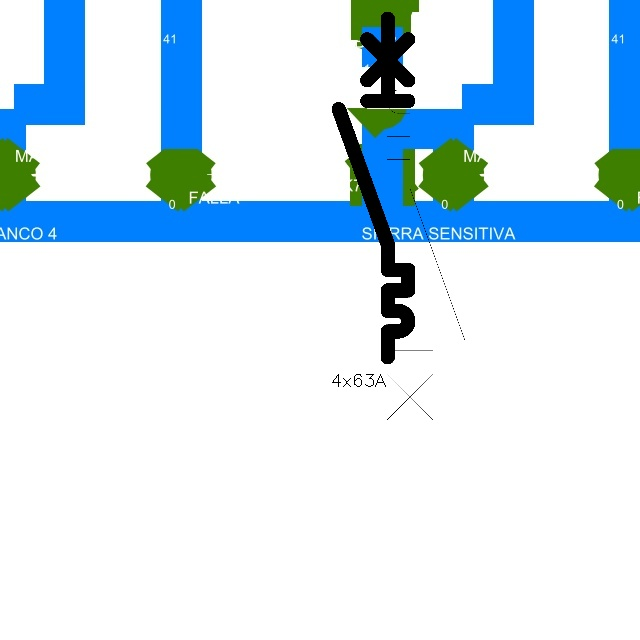interruptor_termomagnetico: (377, 51, 475, 453), (330, 10, 417, 366)
